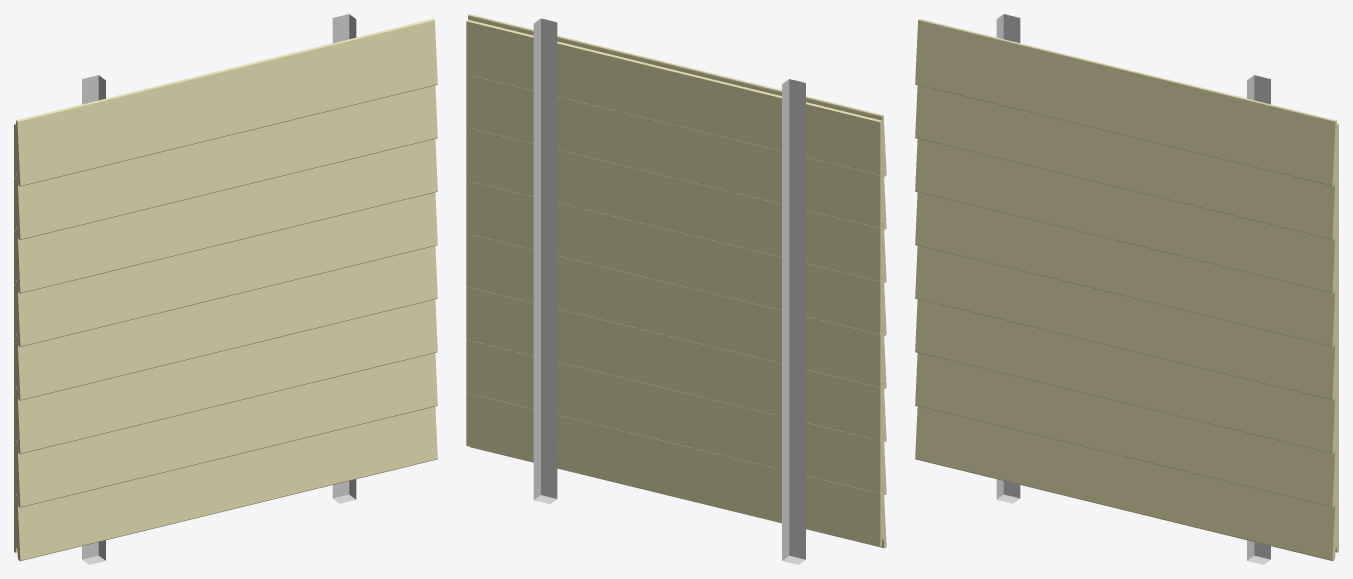
The model's file is FHG.015.glb.
3 views of the same model, side by side, from view 1: azimuth 30°, elevation 25°; view 2: azimuth 150°, elevation 25°; view 3: azimuth 330°, elevation 25° (orthographic).
Visible parts, largest first — view 1: IfcCovering/Konische Stuelpschalung, Nut + Kamm.007, IfcCovering/Konische Stuelpschalung, Nut + Kamm, IfcCovering/Konische Stuelpschalung, Nut + Kamm.001, IfcCovering/Konische Stuelpschalung, Nut + Kamm.004, IfcCovering/Konische Stuelpschalung, Nut + Kamm.002, IfcCovering/Konische Stuelpschalung, Nut + Kamm.005, IfcCovering/Konische Stuelpschalung, Nut + Kamm.006, IfcCovering/Konische Stuelpschalung, Nut + Kamm.003, IfcBuildingElementProxy/VerticalElementProxy, IfcBuildingElementProxy/VerticalElementProxy.001; view 2: IfcCovering/Konische Stuelpschalung, Nut + Kamm.007, IfcCovering/Konische Stuelpschalung, Nut + Kamm, IfcCovering/Konische Stuelpschalung, Nut + Kamm.004, IfcCovering/Konische Stuelpschalung, Nut + Kamm.005, IfcCovering/Konische Stuelpschalung, Nut + Kamm.006, IfcCovering/Konische Stuelpschalung, Nut + Kamm.001, IfcCovering/Konische Stuelpschalung, Nut + Kamm.003, IfcCovering/Konische Stuelpschalung, Nut + Kamm.002, IfcBuildingElementProxy/VerticalElementProxy, IfcBuildingElementProxy/VerticalElementProxy.001; view 3: IfcCovering/Konische Stuelpschalung, Nut + Kamm.007, IfcCovering/Konische Stuelpschalung, Nut + Kamm, IfcCovering/Konische Stuelpschalung, Nut + Kamm.001, IfcCovering/Konische Stuelpschalung, Nut + Kamm.004, IfcCovering/Konische Stuelpschalung, Nut + Kamm.002, IfcCovering/Konische Stuelpschalung, Nut + Kamm.005, IfcCovering/Konische Stuelpschalung, Nut + Kamm.006, IfcCovering/Konische Stuelpschalung, Nut + Kamm.003, IfcBuildingElementProxy/VerticalElementProxy.001, IfcBuildingElementProxy/VerticalElementProxy.
Boxes of the visible parts, x1=… form: IfcCovering/Konische Stuelpschalung, Nut + Kamm.007: x1=14, y1=18, x2=437, y2=186; IfcCovering/Konische Stuelpschalung, Nut + Kamm: x1=14, y1=406, x2=437, y2=561; IfcCovering/Konische Stuelpschalung, Nut + Kamm.001: x1=14, y1=353, x2=437, y2=507; IfcCovering/Konische Stuelpschalung, Nut + Kamm.004: x1=14, y1=192, x2=437, y2=346; IfcCovering/Konische Stuelpschalung, Nut + Kamm.002: x1=14, y1=299, x2=437, y2=453; IfcCovering/Konische Stuelpschalung, Nut + Kamm.005: x1=14, y1=139, x2=437, y2=293; IfcCovering/Konische Stuelpschalung, Nut + Kamm.006: x1=14, y1=85, x2=437, y2=239; IfcCovering/Konische Stuelpschalung, Nut + Kamm.003: x1=14, y1=246, x2=437, y2=400; IfcBuildingElementProxy/VerticalElementProxy: x1=332, y1=14, x2=356, y2=503; IfcBuildingElementProxy/VerticalElementProxy.001: x1=82, y1=75, x2=105, y2=564; IfcCovering/Konische Stuelpschalung, Nut + Kamm.007: x1=466, y1=14, x2=886, y2=176; IfcCovering/Konische Stuelpschalung, Nut + Kamm: x1=466, y1=393, x2=886, y2=548; IfcCovering/Konische Stuelpschalung, Nut + Kamm.004: x1=466, y1=180, x2=886, y2=335; IfcCovering/Konische Stuelpschalung, Nut + Kamm.005: x1=466, y1=127, x2=886, y2=282; IfcCovering/Konische Stuelpschalung, Nut + Kamm.006: x1=466, y1=74, x2=886, y2=229; IfcCovering/Konische Stuelpschalung, Nut + Kamm.001: x1=466, y1=339, x2=886, y2=495; IfcCovering/Konische Stuelpschalung, Nut + Kamm.003: x1=466, y1=233, x2=886, y2=388; IfcCovering/Konische Stuelpschalung, Nut + Kamm.002: x1=466, y1=286, x2=886, y2=441; IfcBuildingElementProxy/VerticalElementProxy: x1=533, y1=18, x2=557, y2=504; IfcBuildingElementProxy/VerticalElementProxy.001: x1=782, y1=79, x2=805, y2=564; IfcCovering/Konische Stuelpschalung, Nut + Kamm.007: x1=915, y1=18, x2=1338, y2=186; IfcCovering/Konische Stuelpschalung, Nut + Kamm: x1=915, y1=406, x2=1338, y2=561; IfcCovering/Konische Stuelpschalung, Nut + Kamm.001: x1=915, y1=353, x2=1338, y2=507; IfcCovering/Konische Stuelpschalung, Nut + Kamm.004: x1=915, y1=192, x2=1338, y2=346; IfcCovering/Konische Stuelpschalung, Nut + Kamm.002: x1=915, y1=299, x2=1338, y2=453; IfcCovering/Konische Stuelpschalung, Nut + Kamm.005: x1=915, y1=139, x2=1338, y2=293; IfcCovering/Konische Stuelpschalung, Nut + Kamm.006: x1=915, y1=85, x2=1338, y2=239; IfcCovering/Konische Stuelpschalung, Nut + Kamm.003: x1=915, y1=246, x2=1338, y2=400; IfcBuildingElementProxy/VerticalElementProxy.001: x1=996, y1=14, x2=1020, y2=503; IfcBuildingElementProxy/VerticalElementProxy: x1=1247, y1=75, x2=1270, y2=564.
Bounding box in the file's own units: 1 × 1.1 × 0.0561.
